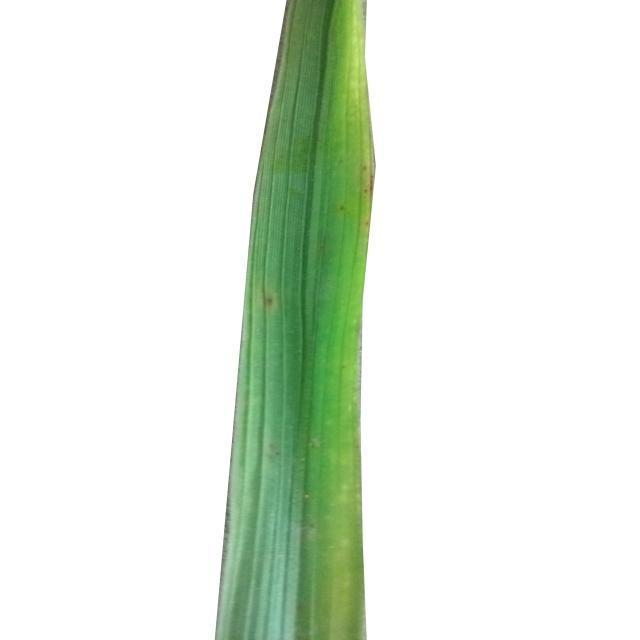Rice Tungro: (295, 0, 372, 640)
